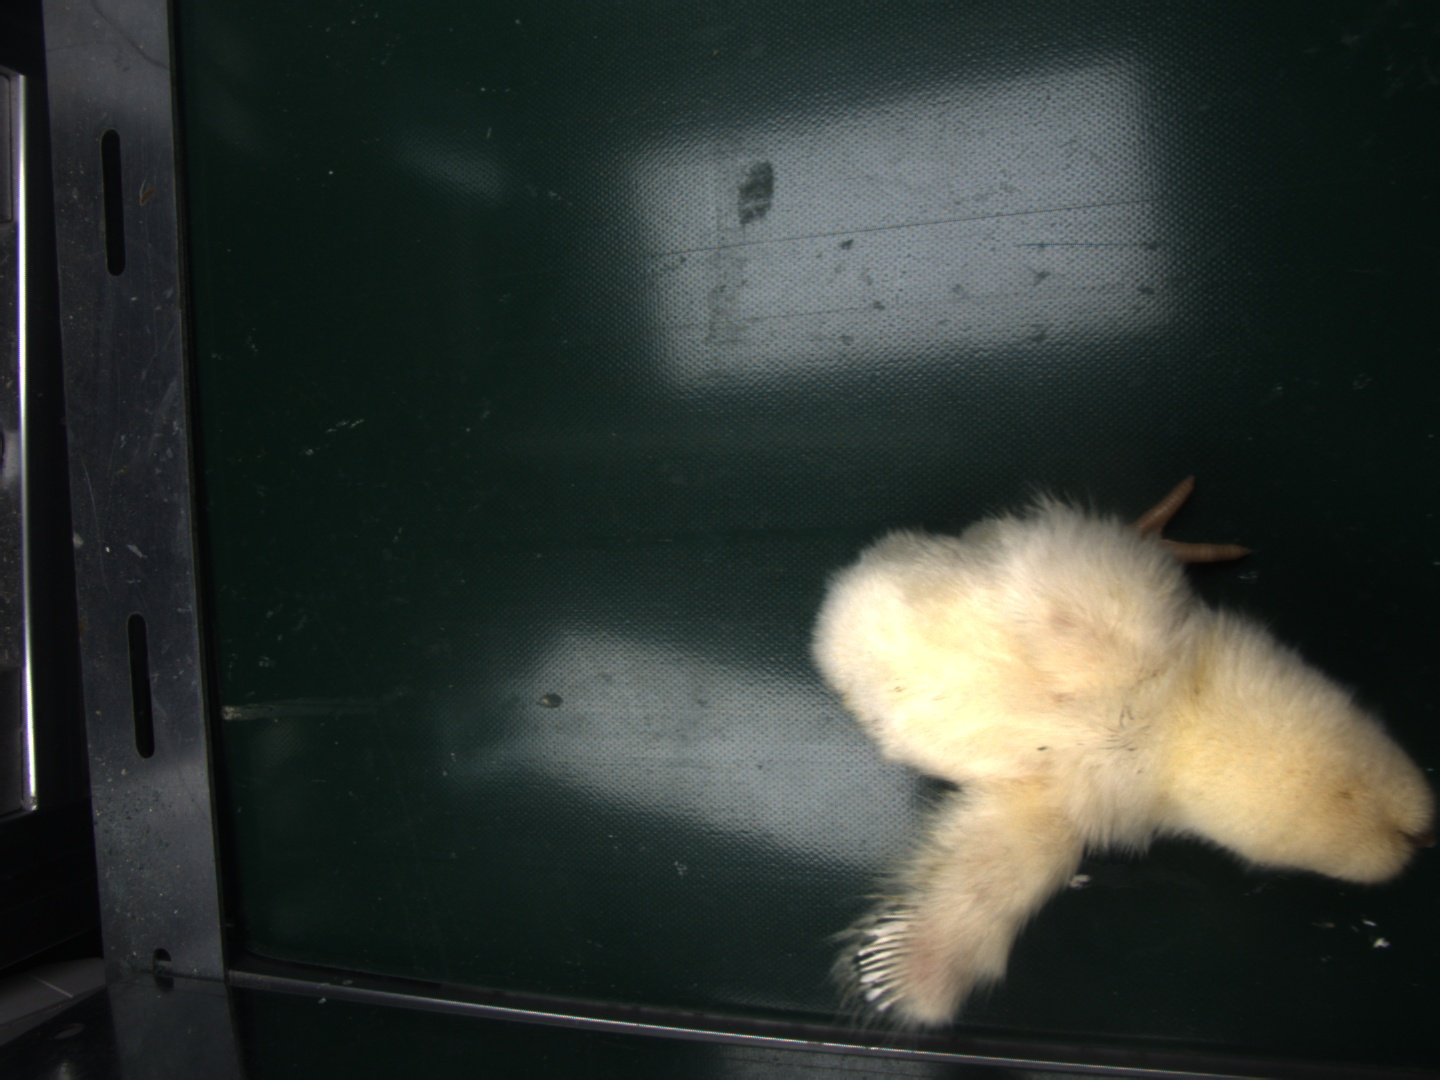male: (859, 908, 922, 1007)
